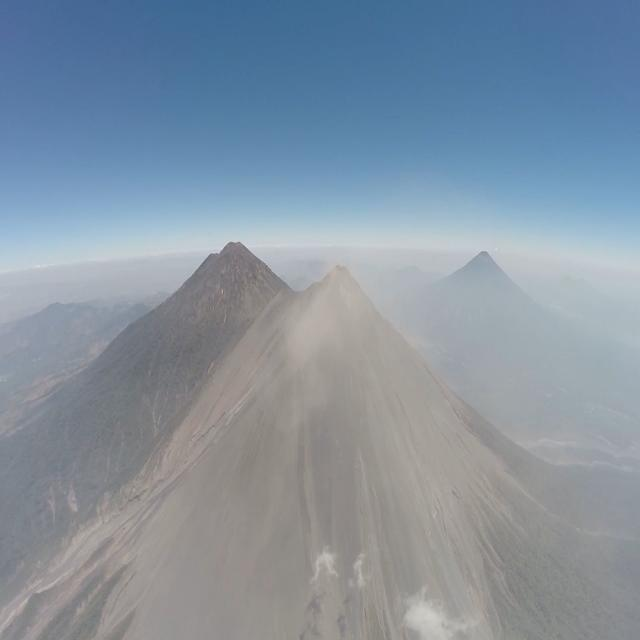Summit: (306, 263, 366, 302)
